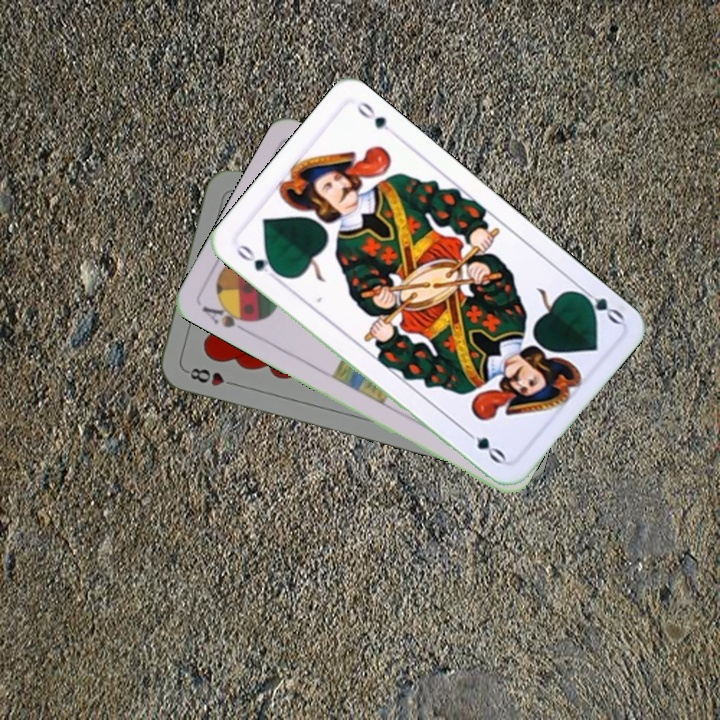GO: (572, 282, 627, 327), (232, 240, 284, 284)
H8: (182, 363, 240, 389)
SA: (198, 297, 257, 337)
